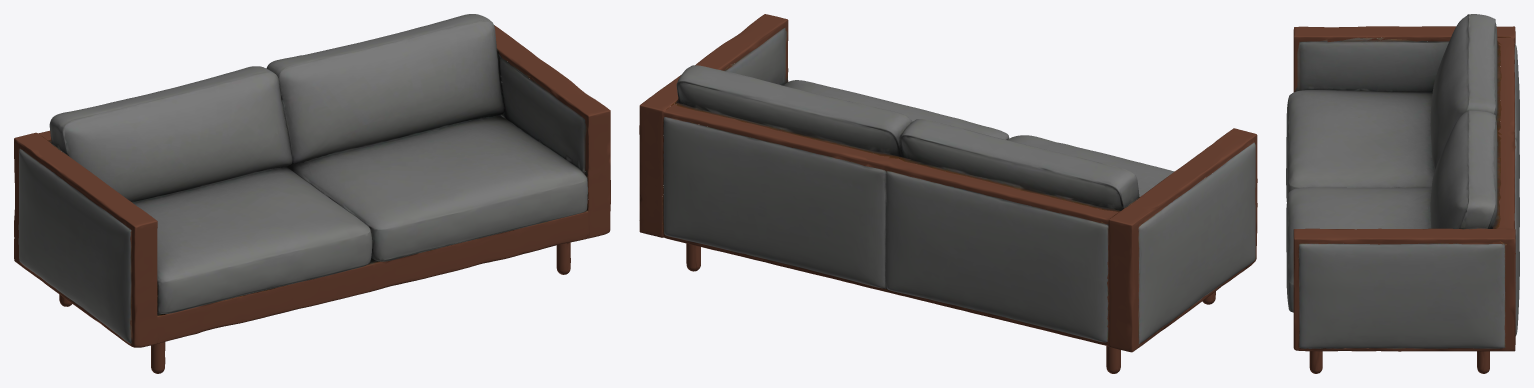
3 renders of one model, left to right at view 1: azimuth 30°, elevation 25°; view 2: azimuth 150°, elevation 25°; view 3: azimuth 270°, elevation 25°, orthographic. The views are drawn at different scales.
Parts seen in each view (by area): view 1: tripo_node_cdd4bcad-35ff-4ce9-b6b9-533ba3c80356; view 2: tripo_node_cdd4bcad-35ff-4ce9-b6b9-533ba3c80356; view 3: tripo_node_cdd4bcad-35ff-4ce9-b6b9-533ba3c80356.
Boxes of the visible parts, x1,y1,x2,y2 form: tripo_node_cdd4bcad-35ff-4ce9-b6b9-533ba3c80356: (14, 14, 610, 373); tripo_node_cdd4bcad-35ff-4ce9-b6b9-533ba3c80356: (639, 14, 1257, 373); tripo_node_cdd4bcad-35ff-4ce9-b6b9-533ba3c80356: (1286, 14, 1519, 373).
Size of the model in its own units: 1.98 by 0.7499 by 0.9001.
Materials: 2 (1 with a texture image).
